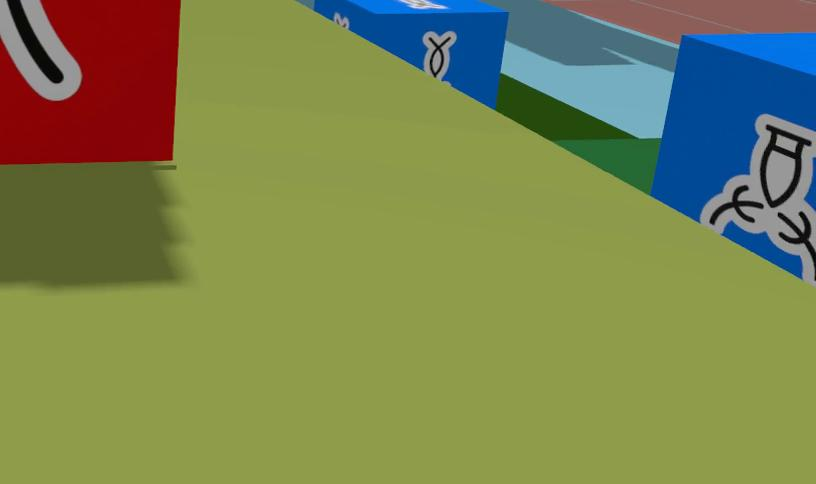KFS_FAKE: (0, 0, 180, 163), (0, 0, 82, 101)
KFS_REAL: (651, 32, 815, 284), (314, 0, 507, 107), (699, 114, 815, 284), (423, 31, 456, 82), (388, 0, 446, 8)
